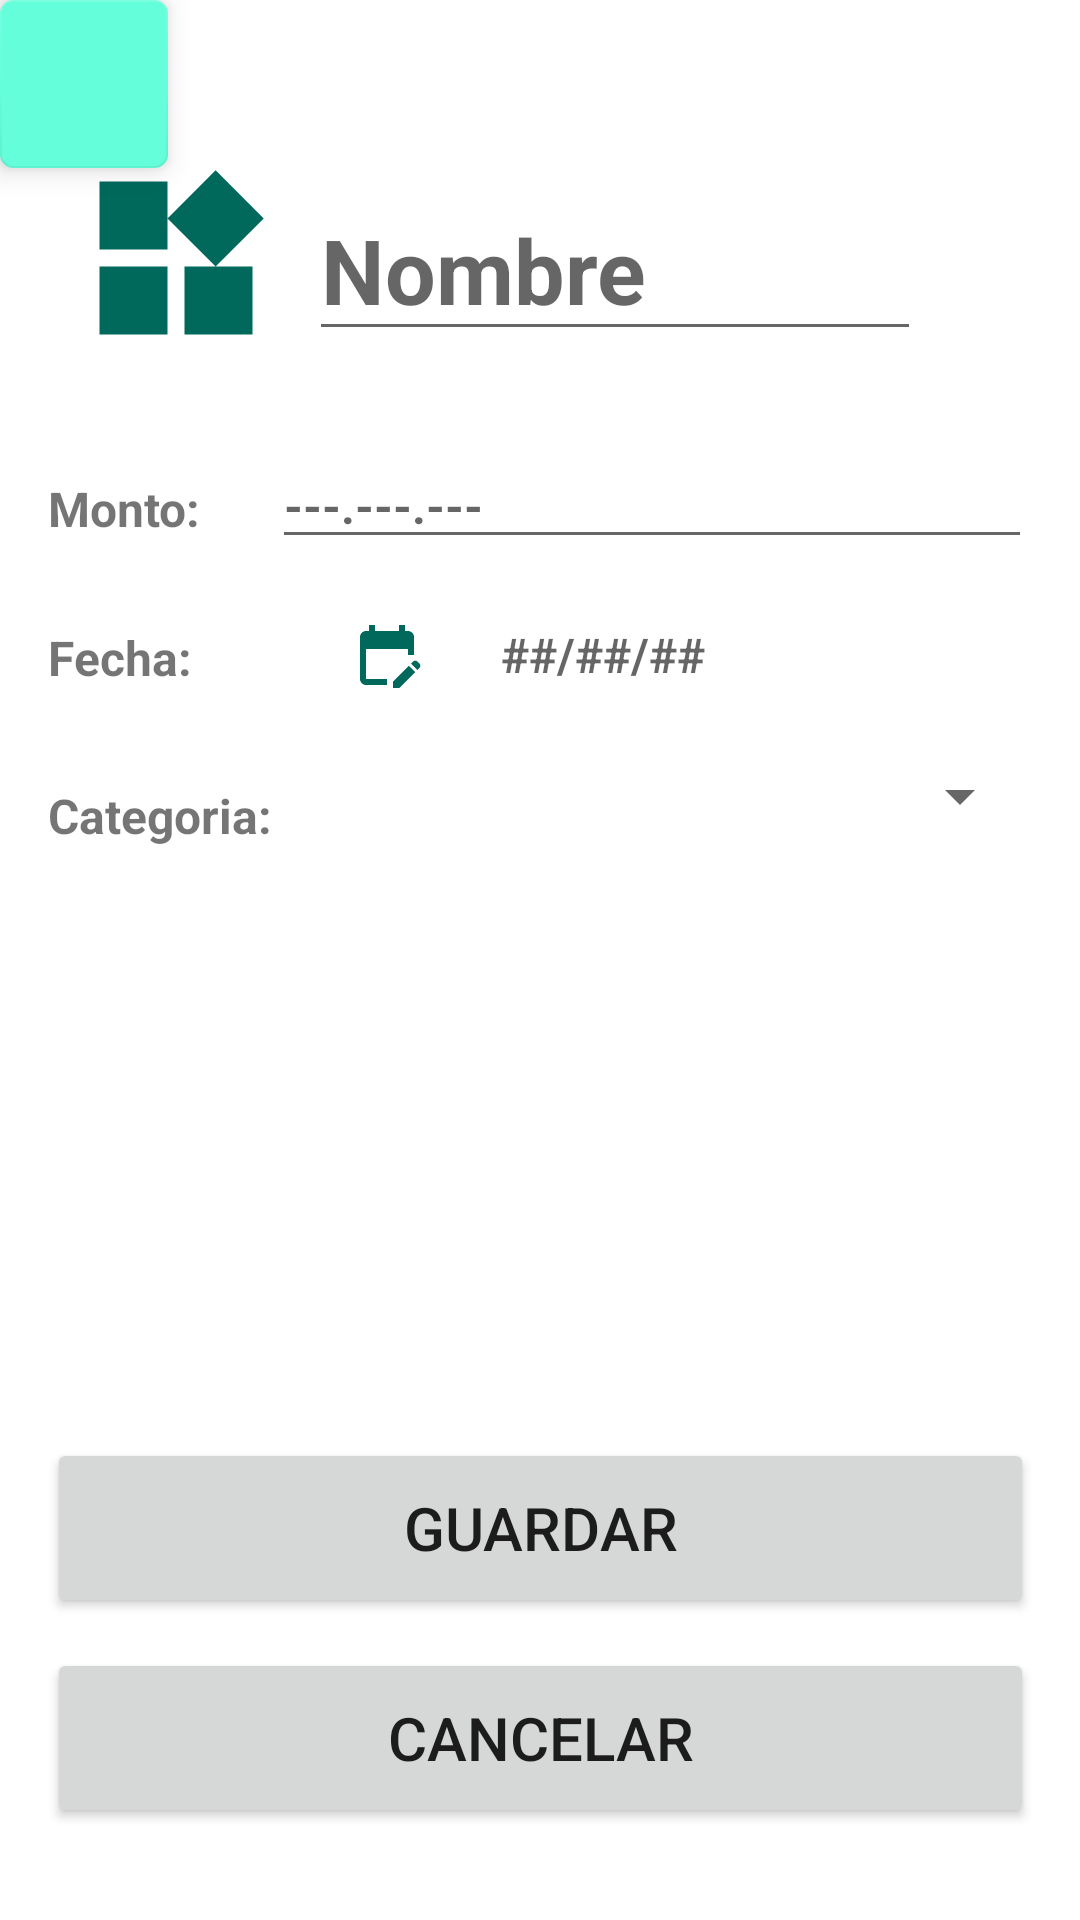

Where icons sit on this 1080w x 1920h app screen, as (x1, y1, x2, y2):
cat otros: (99, 170, 264, 335)
